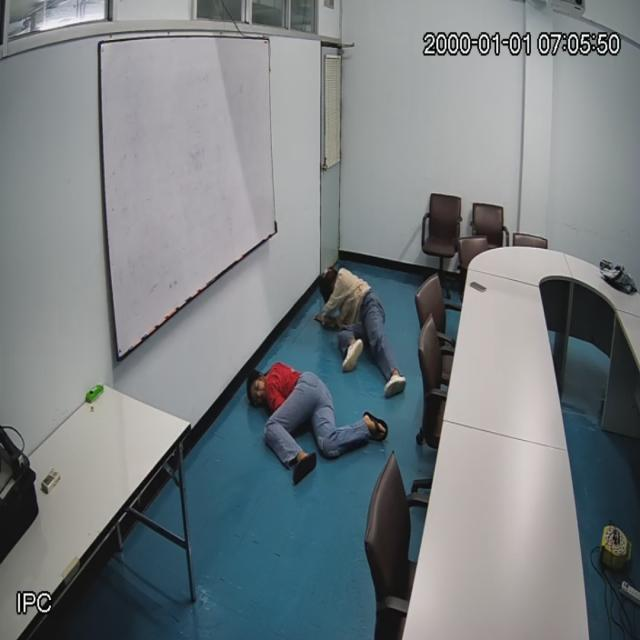fall: (242, 361, 394, 489), (314, 260, 408, 404)
